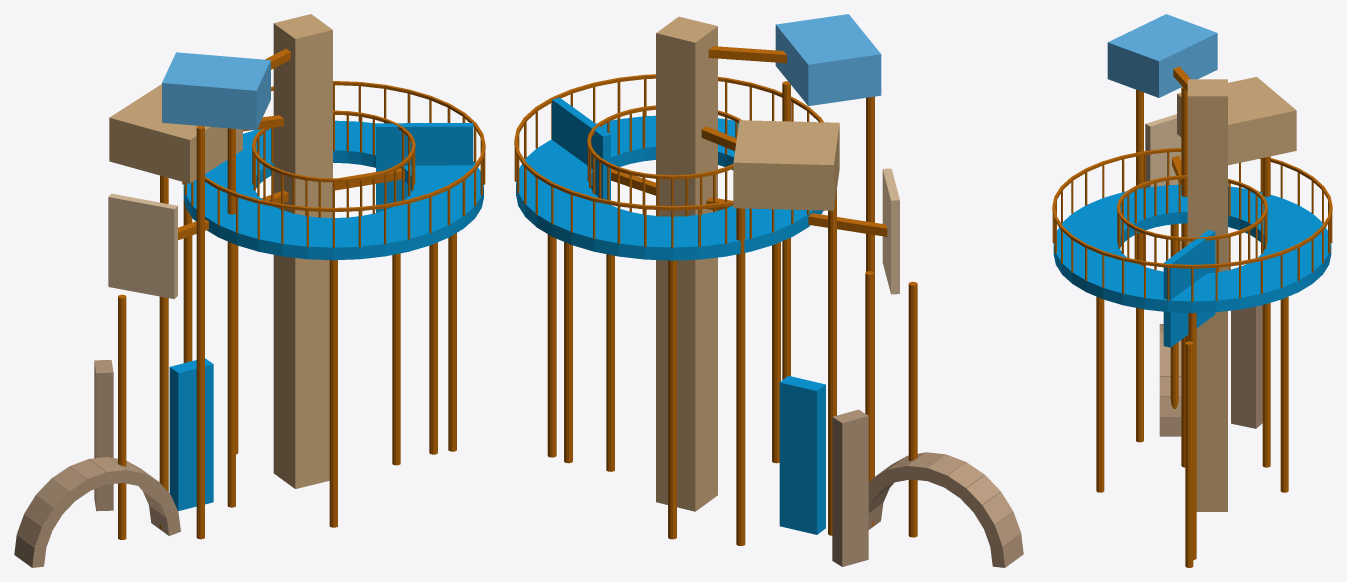
Rendered from folie_tag_009.glb.
3 views of the same model, side by side, from view 1: azimuth 30°, elevation 25°; view 2: azimuth 150°, elevation 25°; view 3: azimuth 270°, elevation 25° (orthographic). The views are drawn at different scales.
Visible parts, largest first — view 1: folie_tag_009_line, folie_tag_009_core, folie_tag_009_00_ring, folie_tag_009_03_block, folie_tag_009_01_block, folie_tag_009_06_panel, folie_tag_009_02_arc, folie_tag_009_04_fin, folie_tag_009_05_panel, folie_tag_009_07_fin; view 2: folie_tag_009_line, folie_tag_009_core, folie_tag_009_00_ring, folie_tag_009_01_block, folie_tag_009_03_block, folie_tag_009_04_fin, folie_tag_009_02_arc, folie_tag_009_07_fin, folie_tag_009_05_panel, folie_tag_009_06_panel; view 3: folie_tag_009_line, folie_tag_009_00_ring, folie_tag_009_core, folie_tag_009_03_block, folie_tag_009_01_block, folie_tag_009_07_fin, folie_tag_009_05_panel, folie_tag_009_06_panel, folie_tag_009_02_arc.
Boxes of the visible parts, x1,y1,x2,y2 form: folie_tag_009_line: (118,48,485,539); folie_tag_009_core: (273,14,332,488); folie_tag_009_00_ring: (183,120,483,260); folie_tag_009_03_block: (162,52,270,130); folie_tag_009_01_block: (109,84,242,183); folie_tag_009_06_panel: (108,193,177,299); folie_tag_009_02_arc: (14,457,180,567); folie_tag_009_04_fin: (169,358,213,510); folie_tag_009_05_panel: (376,123,473,212); folie_tag_009_07_fin: (94,360,113,511); folie_tag_009_line: (514,46,917,546); folie_tag_009_core: (656,16,717,511); folie_tag_009_00_ring: (516,115,823,260); folie_tag_009_01_block: (733,120,839,210); folie_tag_009_03_block: (775,14,881,105); folie_tag_009_04_fin: (779,375,825,534); folie_tag_009_02_arc: (868,452,1023,567); folie_tag_009_07_fin: (832,409,868,566); folie_tag_009_05_panel: (552,97,610,200); folie_tag_009_06_panel: (882,168,899,294); folie_tag_009_line: (1052,66,1332,567); folie_tag_009_00_ring: (1053,184,1331,312); folie_tag_009_core: (1187,79,1227,511); folie_tag_009_03_block: (1107,14,1217,97); folie_tag_009_01_block: (1177,77,1296,165); folie_tag_009_07_fin: (1231,305,1262,428); folie_tag_009_05_panel: (1163,230,1215,347); folie_tag_009_06_panel: (1145,114,1181,187); folie_tag_009_02_arc: (1159,324,1181,436).
Bounding box in the file's own units: 13.16 × 12.6 × 7.68.
